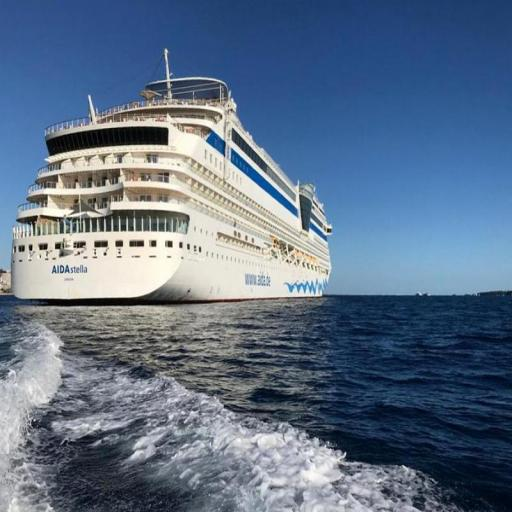cruises: (9, 45, 335, 311)
